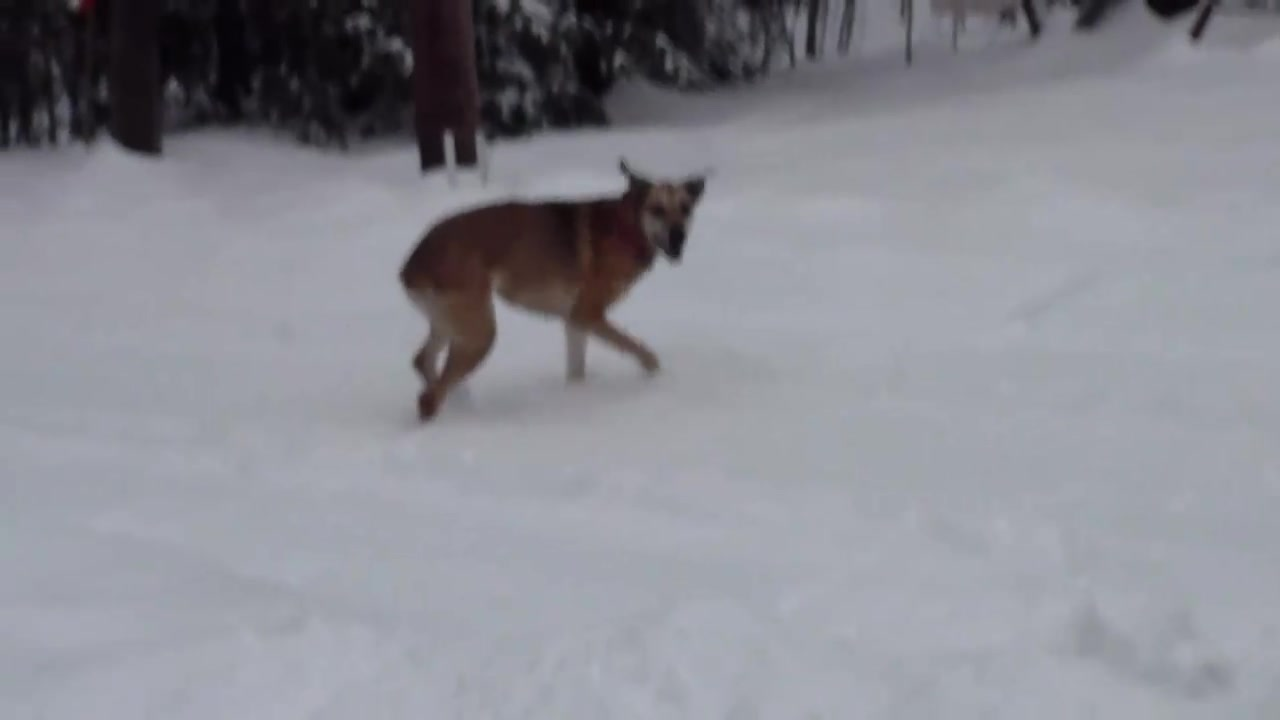dog: (398, 155, 717, 423)
